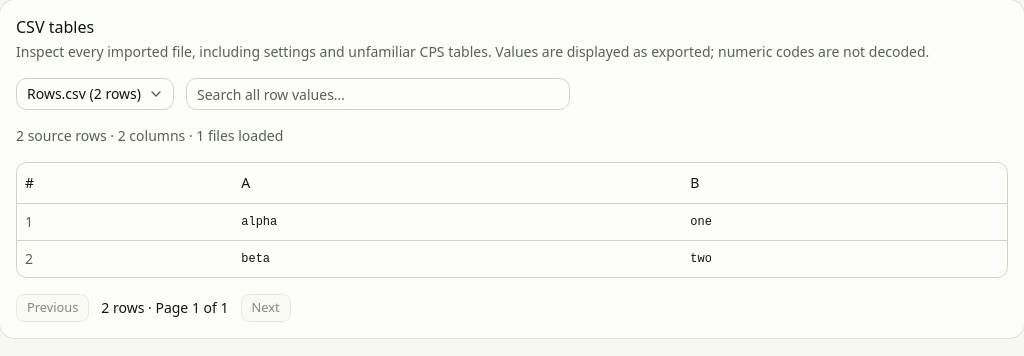
Scenario: search filters rows and reports when nothing matches
This screenshot has width=1024, height=356.
Type "beta" into the field named "Search CSV table" at (378, 94), box [186,78,570,110]
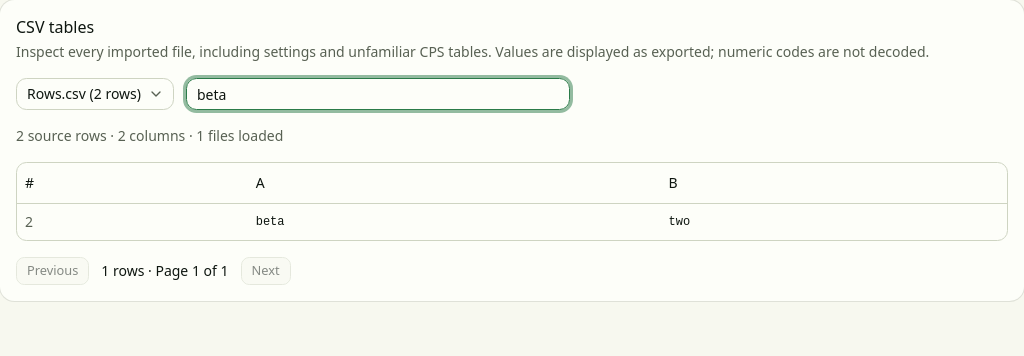
Replace the text in the field named "Search CSV table" with "nothing-here" at (378, 94), box [186,78,570,110]
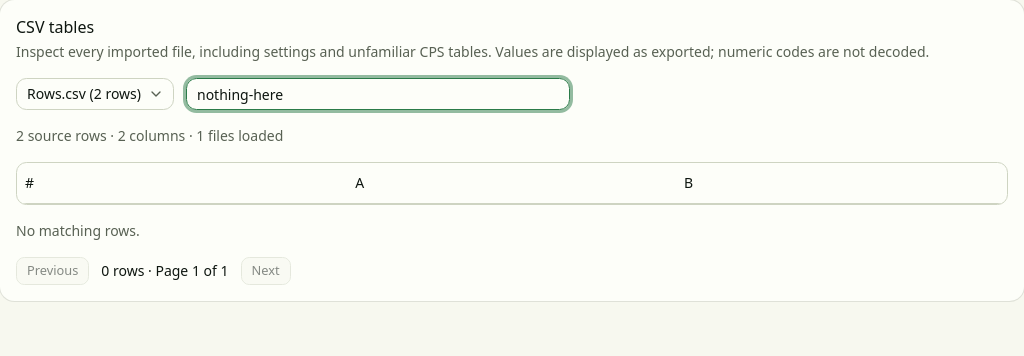
Expected: the text "No matching rows." is shown, [16,220,140,240]
